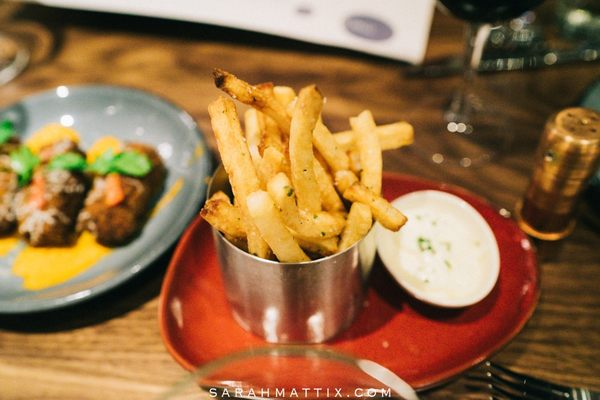sushi: (200, 78, 410, 344), (203, 129, 384, 344), (203, 208, 382, 344)
